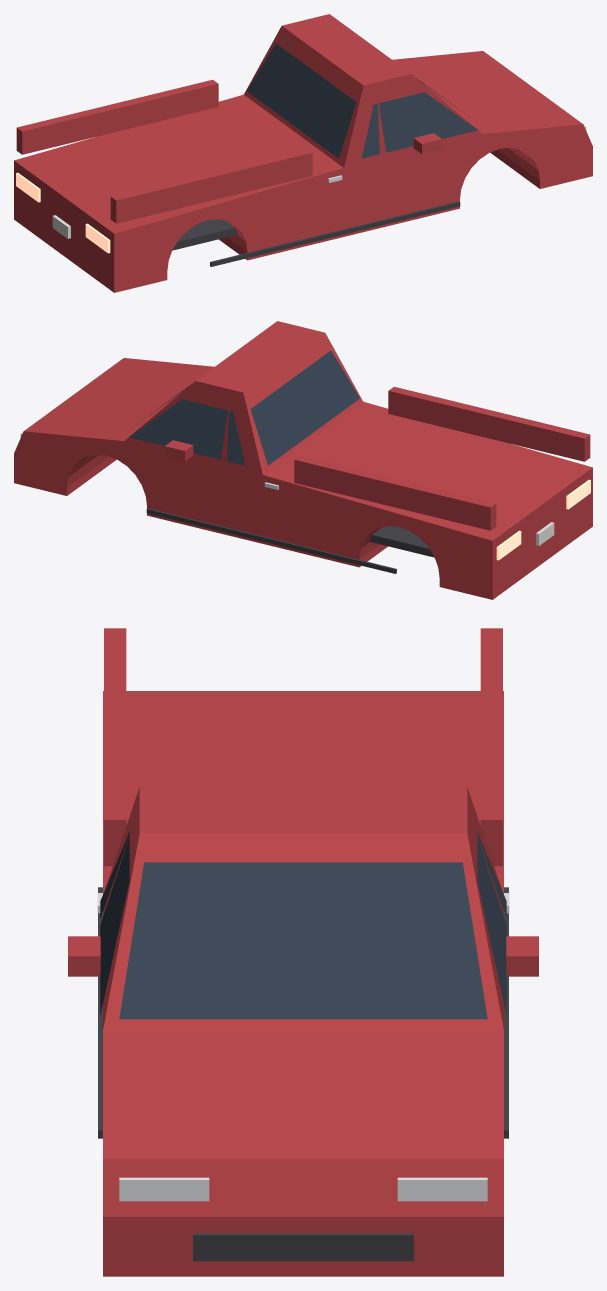
File: SM_Veh_Pickup.fbx
3 renders of one model, top to bottom at view 1: azimuth 30°, elevation 25°; view 2: azimuth 150°, elevation 25°; view 3: azimuth 270°, elevation 25°, orthographic. The views are drawn at different scales.
Visible parts, largest first — view 1: SM_Veh_Pickup; view 2: SM_Veh_Pickup; view 3: SM_Veh_Pickup.
Boxes of the visible parts, bbox=[...] form: SM_Veh_Pickup: bbox=[14, 14, 592, 292]; SM_Veh_Pickup: bbox=[14, 321, 592, 599]; SM_Veh_Pickup: bbox=[68, 628, 538, 1276].
Size of the model in its own units: 547 by 230 by 148.
